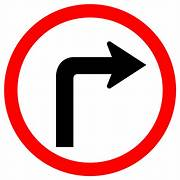right: (2, 3, 178, 177)
